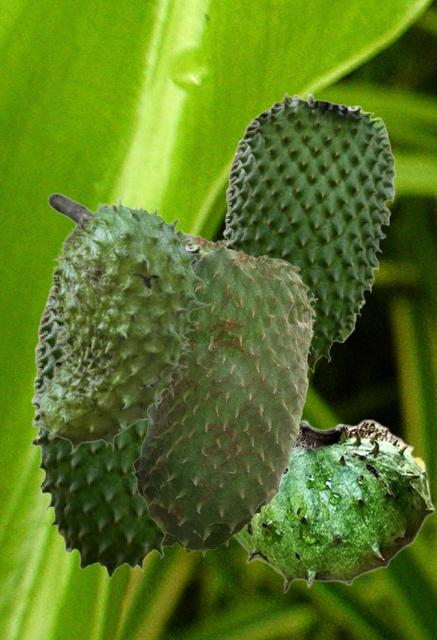guyabano: (30, 243, 207, 578), (131, 244, 317, 555), (222, 92, 395, 373), (30, 192, 211, 454), (233, 416, 434, 593), (163, 228, 225, 549)
